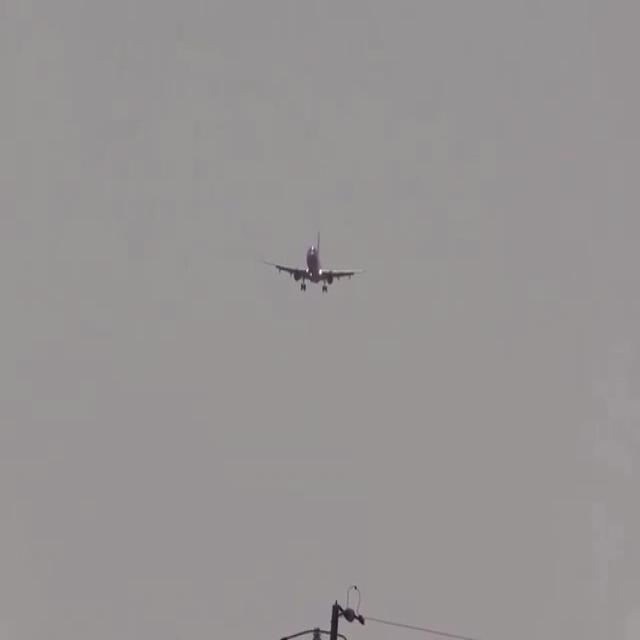AirPlane: (258, 229, 373, 299)
